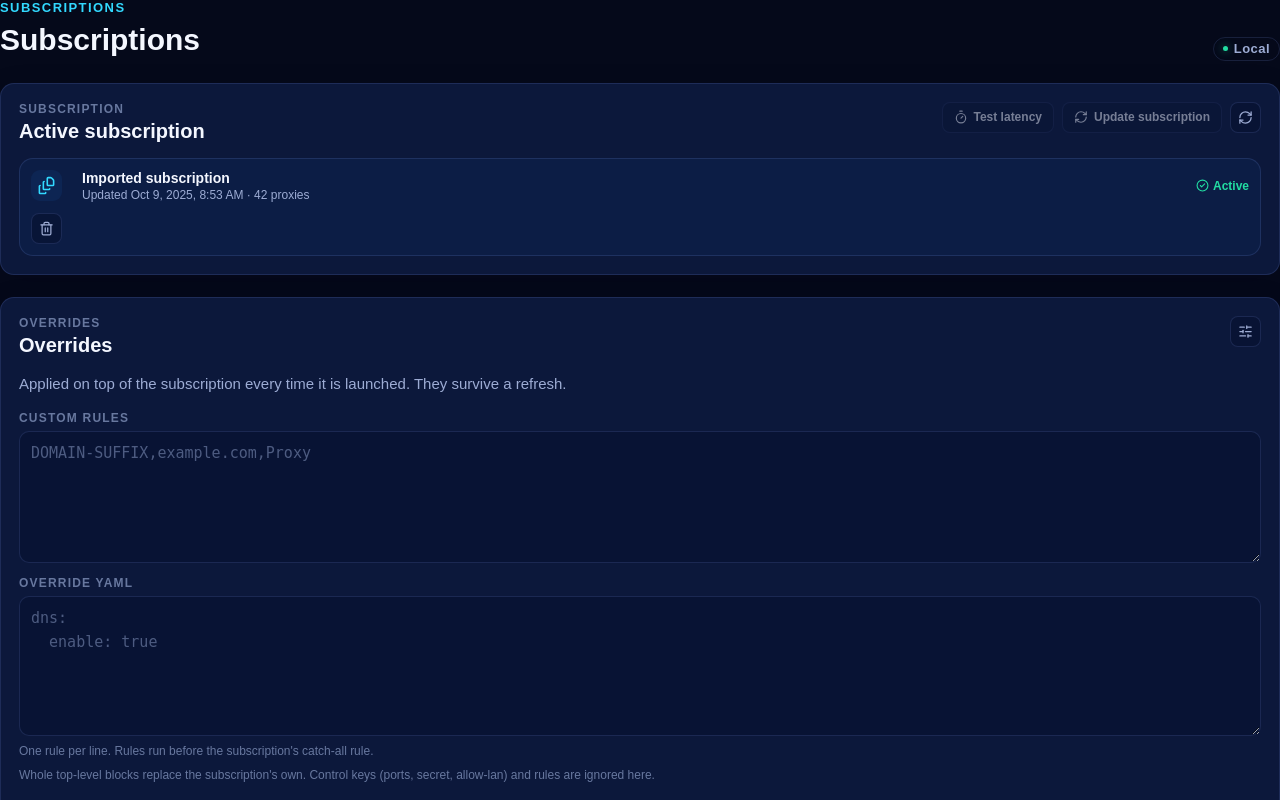
Test: real data workspace pages › removes an imported subscription
Check: the text "Imported subscription" is shown, box [82,170,230,186]
Click the button named "Remove Imported subscription" at {"x": 46, "y": 228}, box [31,213,62,244]
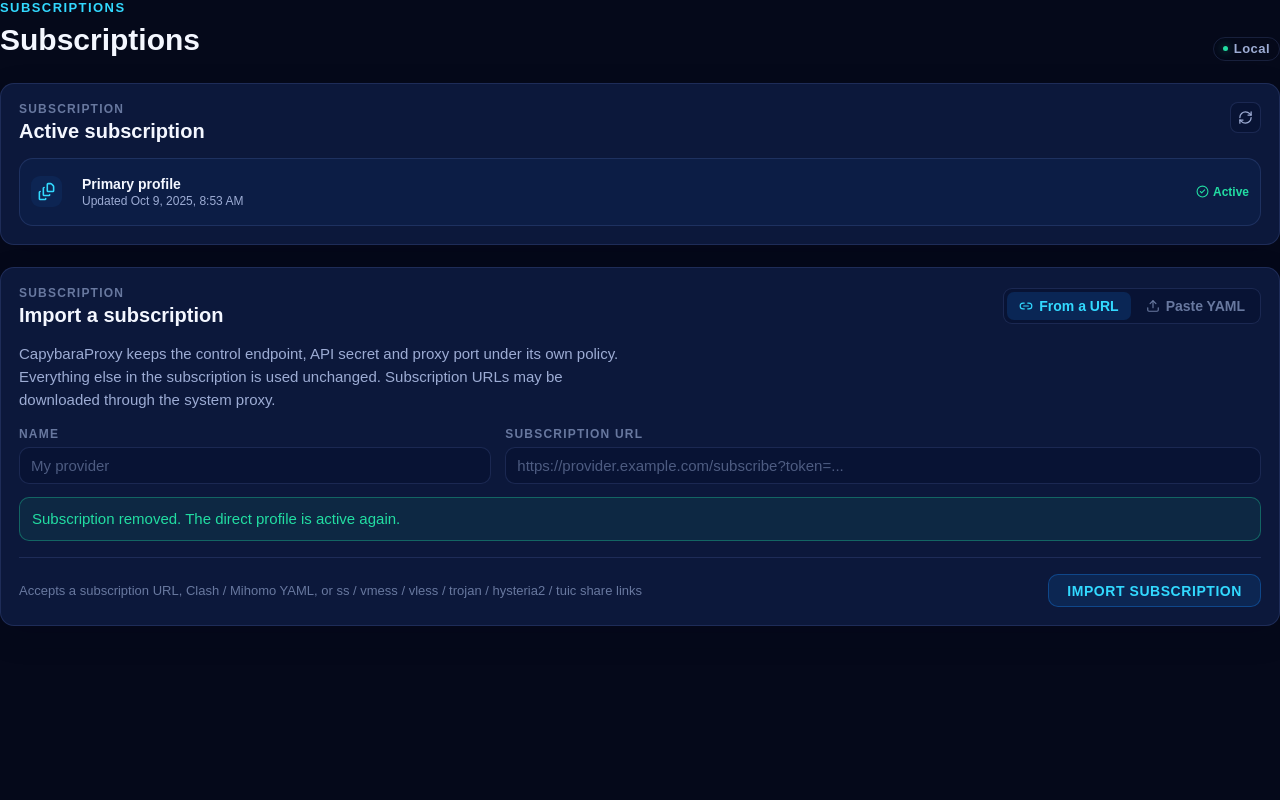
Check: the text "Subscription removed. The direct profile is active again." is shown, box [19,497,1261,541]
